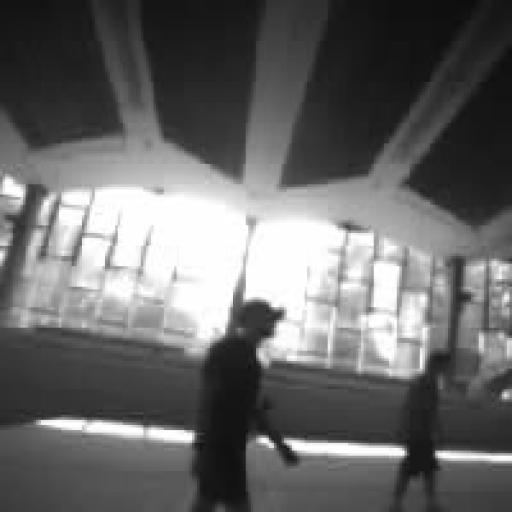human: (190, 300, 299, 511), (392, 351, 450, 511)
